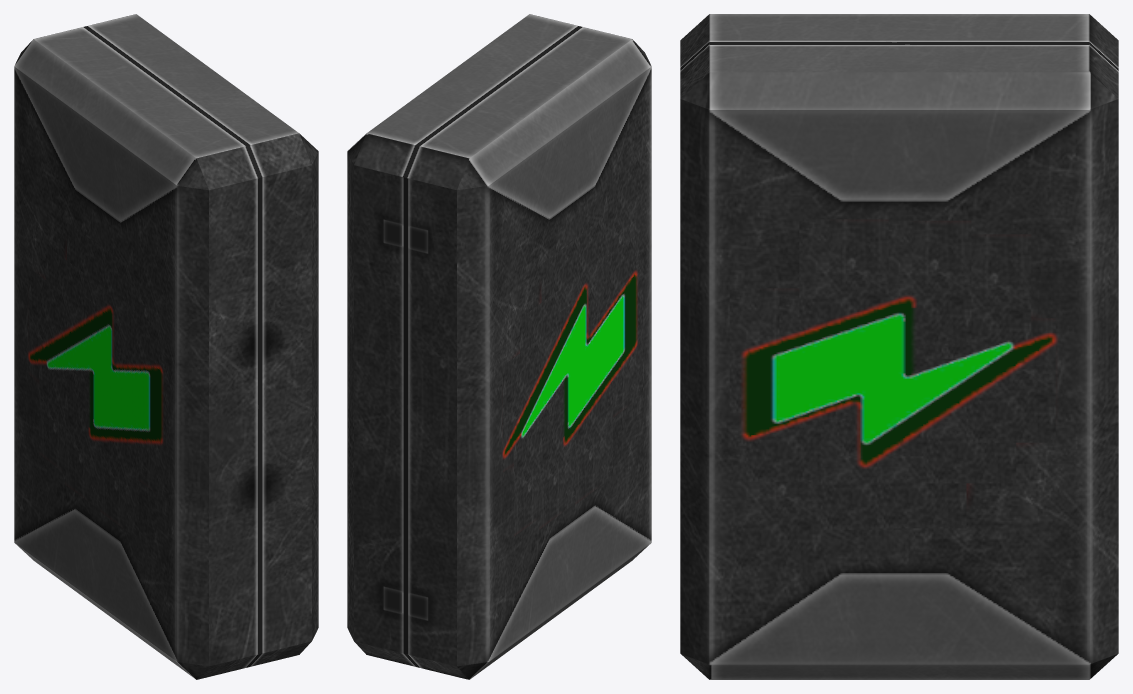
The model's file is item_energy.fbx.
3 views of the same model, side by side, from view 1: azimuth 30°, elevation 25°; view 2: azimuth 150°, elevation 25°; view 3: azimuth 270°, elevation 25° (orthographic). The views are drawn at different scales.
Parts seen in each view (by area): view 1: Medi; view 2: Medi; view 3: Medi.
Boxes of the visible parts, <box> form: Medi: <box>14,14,318,679</box>; Medi: <box>347,14,651,679</box>; Medi: <box>680,14,1118,679</box>.
Size of the model in its own units: 37.69 by 133 by 86.8.
